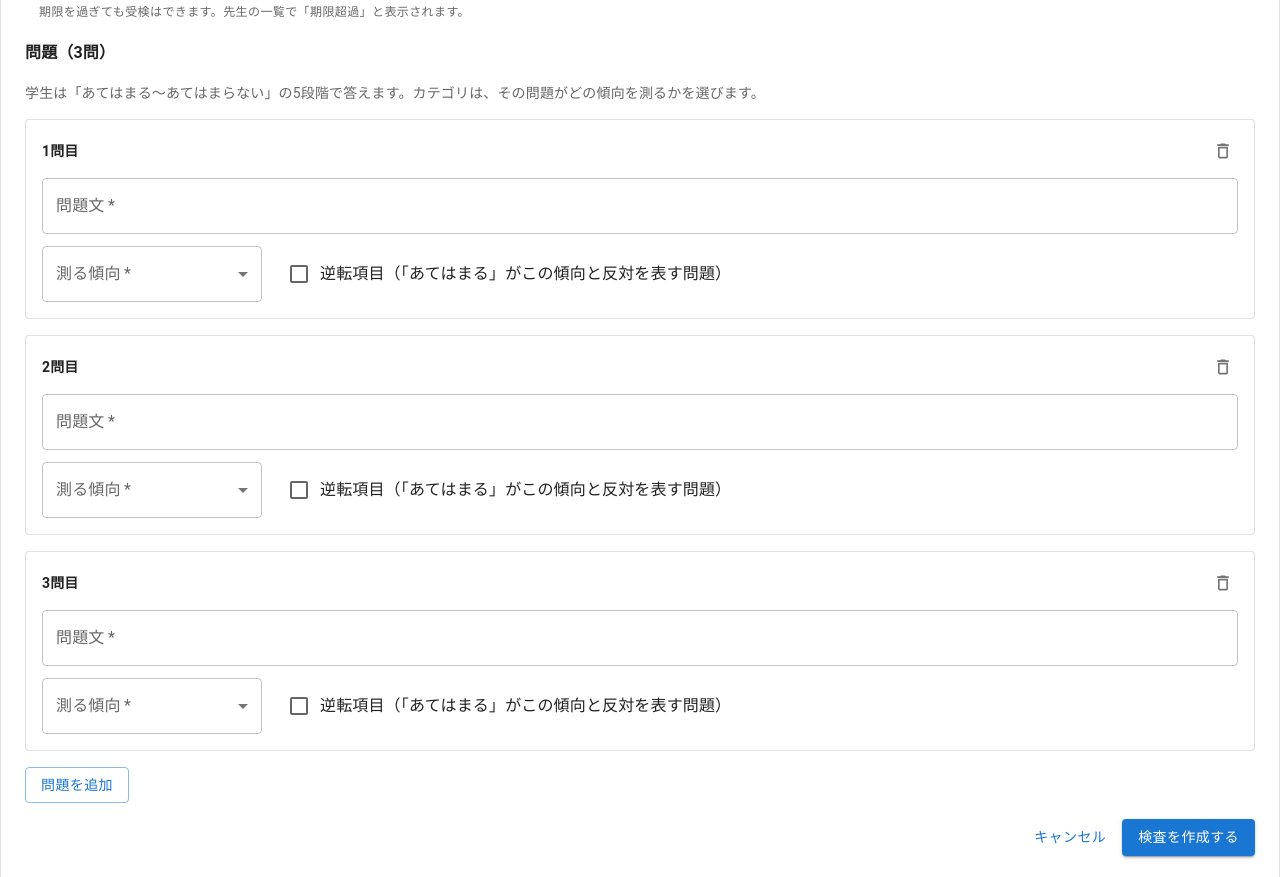
it: TemplateForm › 入力が足りなければ送信せずに理由を出す
(page scrolled)
What coordinates should you click on to do the following:
click the button "検査を作成する"
I would click on:
 (1189, 838)
Its box is [1122, 819, 1255, 856].
(page scrolled)
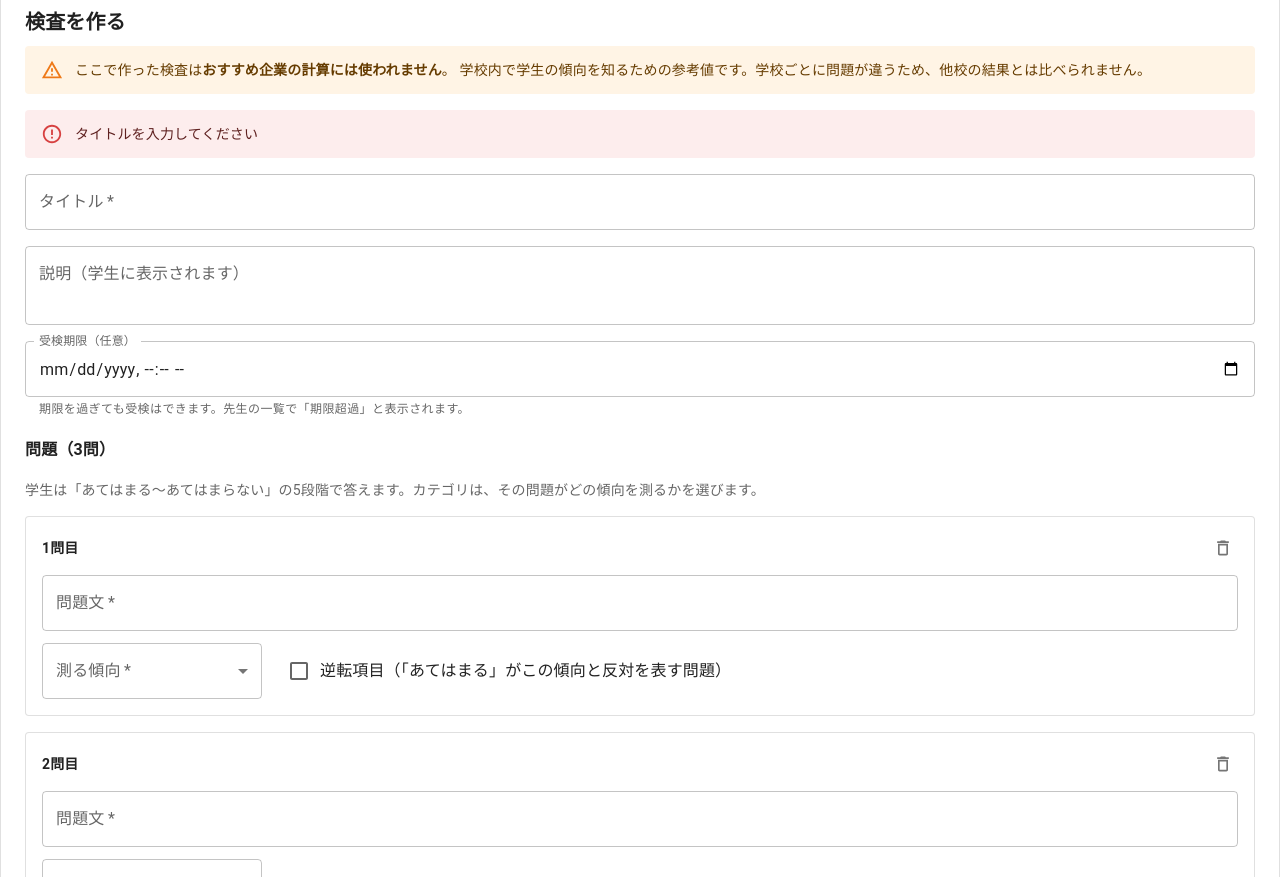
Now the message with test id "template-form-error" reads "タイトルを入力してください", box [75, 126, 258, 142]
